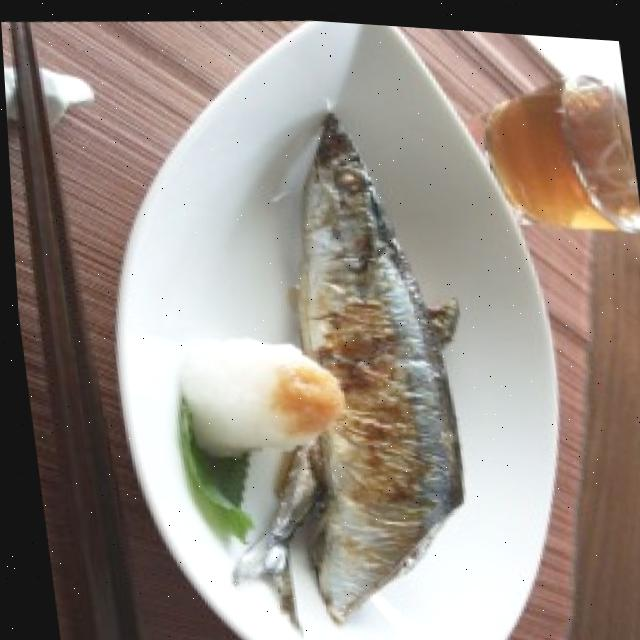熟制海鲜: (64, 3, 576, 640)
